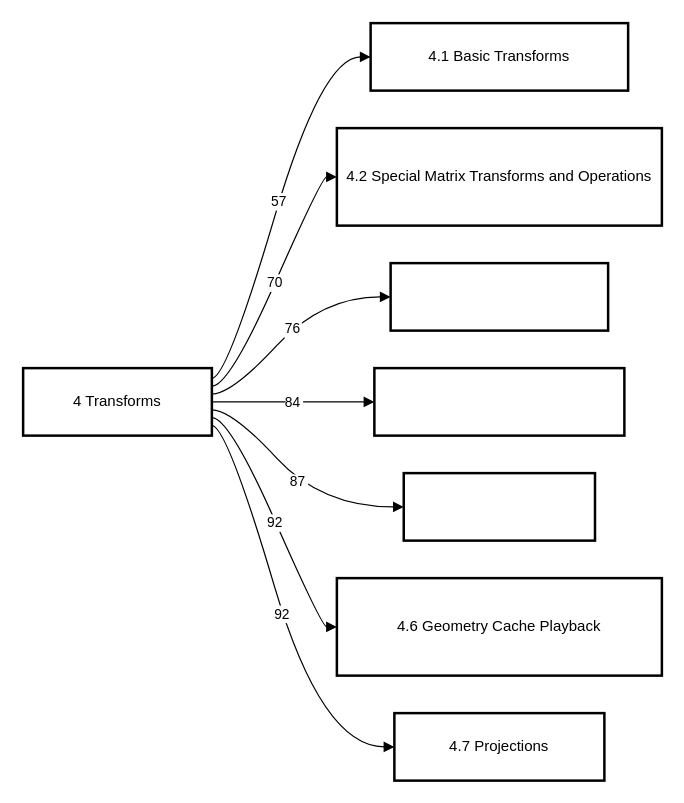
Some shapes in this 684 by 803 pixel diagram are drawn without their labels. Here are the shapes that lost their labels. From the top down, the centre of each, then its label:
At point 499,296: "4.3 Quaternions".
At point 498,401: "4.4 Vertex Blending".
At point 499,506: "4.5 Morphing".
